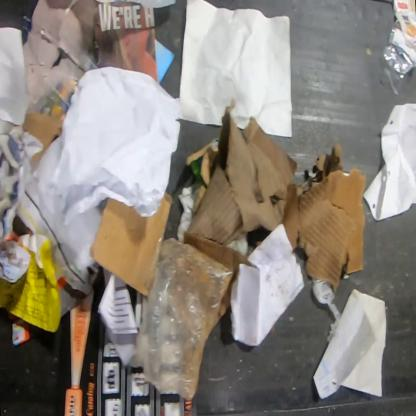cardboard: (186, 105, 298, 247), (283, 142, 367, 294), (89, 190, 174, 296), (183, 231, 254, 327), (31, 0, 99, 66), (184, 138, 219, 214), (22, 109, 66, 167), (38, 36, 85, 80), (389, 0, 416, 68), (58, 277, 88, 319), (12, 318, 46, 348)
soft_plastic: (128, 236, 236, 402), (0, 11, 100, 115), (379, 43, 414, 96)
